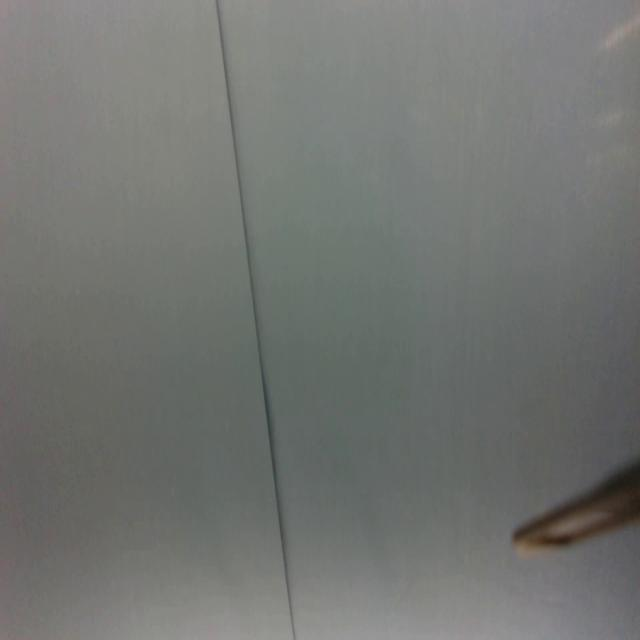crease: (213, 0, 296, 639)
